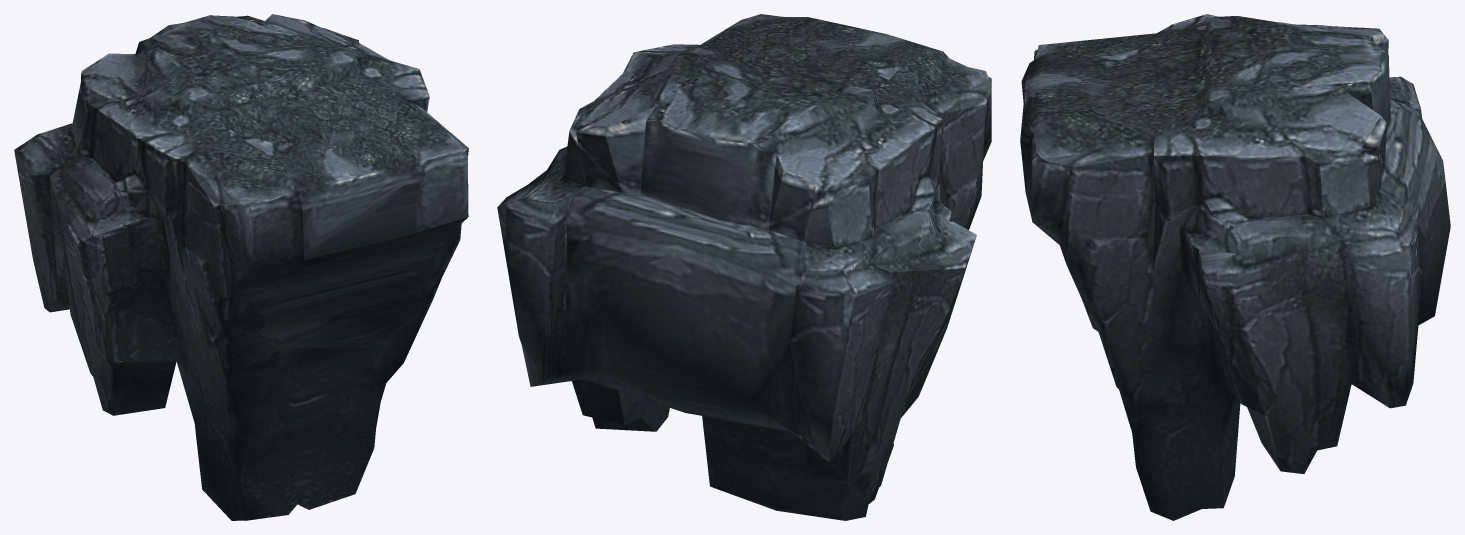
Rendered from shuchu_shitou.FBX.
3 renders of one model, left to right at view 1: azimuth 30°, elevation 25°; view 2: azimuth 150°, elevation 25°; view 3: azimuth 270°, elevation 25°, orthographic. The views are drawn at different scales.
Visible parts, largest first — view 1: 对象001; view 2: 对象001; view 3: 对象001.
Boxes of the visible parts, left/top/right/bottom form: 对象001: left=14, top=14, right=468, bottom=520; 对象001: left=497, top=14, right=991, bottom=520; 对象001: left=1020, top=14, right=1450, bottom=520.
Bounding box in the file's own units: 818 × 877 × 776.
